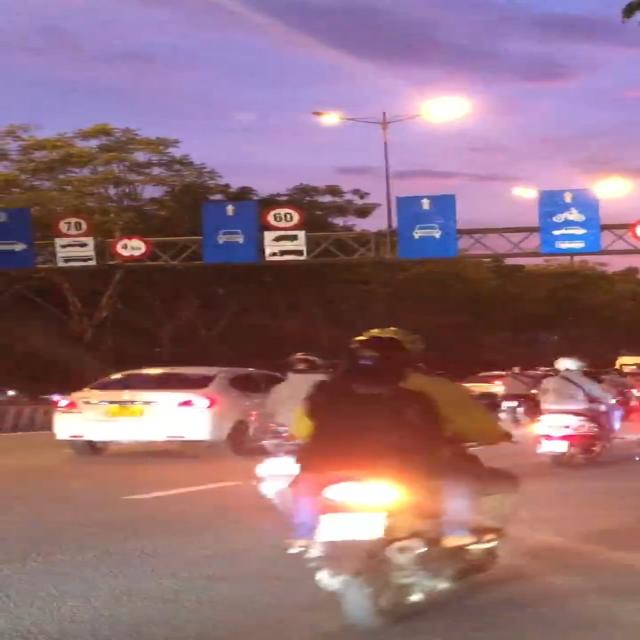Bien bao toc do toi da cho phep: (51, 215, 96, 238), (260, 206, 303, 230)
